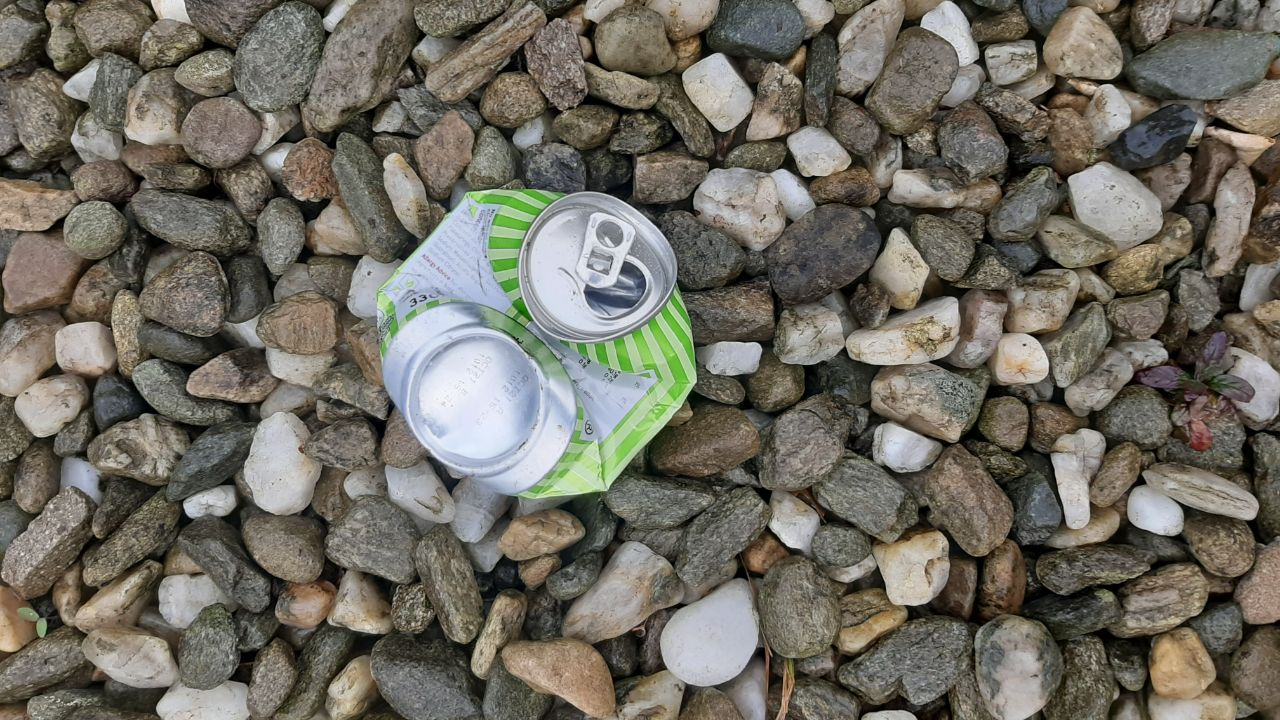Can: (368, 184, 702, 507)
